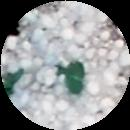Basil: (67, 62, 85, 92)
